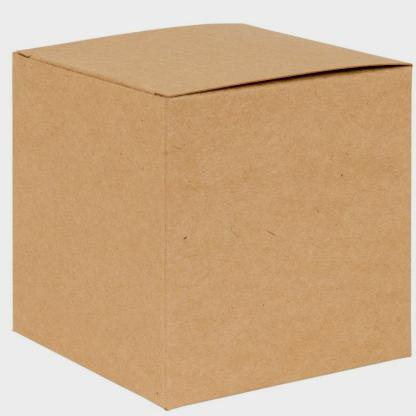package: (9, 17, 414, 413)
